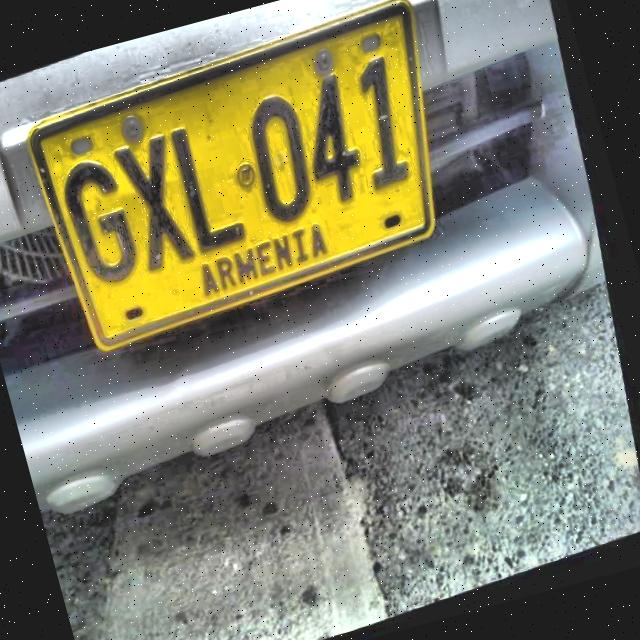plate: (33, 3, 430, 347)
